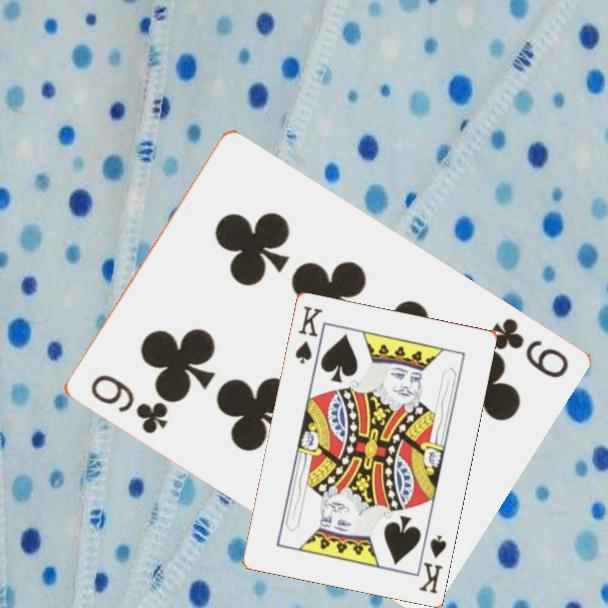c09: (487, 314, 571, 382), (86, 371, 171, 437)
s13: (415, 531, 449, 596), (291, 302, 325, 366)
